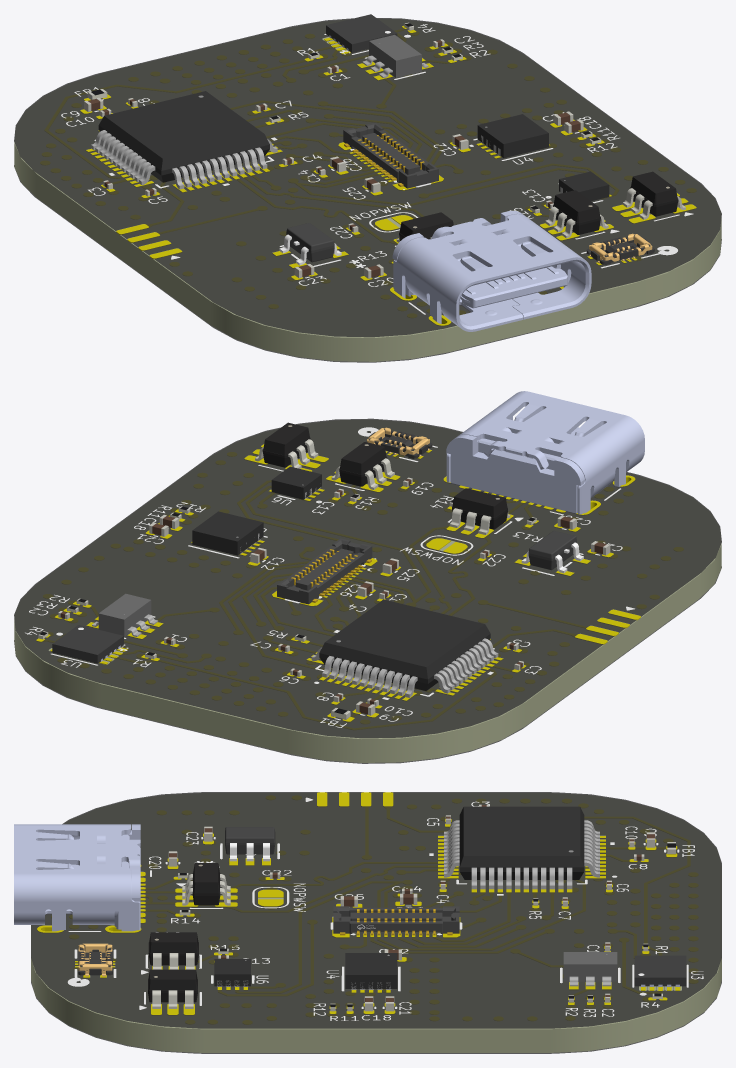
The model's file is STM32 2MB Cold Wallet no switch.glb.
3 views of the same model, one above another, from view 1: azimuth 30°, elevation 25°; view 2: azimuth 150°, elevation 25°; view 3: azimuth 270°, elevation 25° (orthographic).
Visible parts, largest first — view 1: =>[0:1:1:39], =>[0:1:1:41], =>[0:1:1:24], =>[0:1:1:36], =>[0:1:1:7], =>[0:1:1:15] (×3), =>[0:1:1:37], =>[0:1:1:35], =>[0:1:1:33], =>[0:1:1:9], =>[0:1:1:31], D (+3 smaller); view 2: =>[0:1:1:39], =>[0:1:1:41], =>[0:1:1:24], =>[0:1:1:36], =>[0:1:1:7], =>[0:1:1:15] (×3), =>[0:1:1:37], =>[0:1:1:35], =>[0:1:1:33], =>[0:1:1:31], =>[0:1:1:9], D (+3 smaller); view 3: =>[0:1:1:39], =>[0:1:1:41], =>[0:1:1:36], =>[0:1:1:24], =>[0:1:1:7], =>[0:1:1:15] (×3), =>[0:1:1:37], =>[0:1:1:35], =>[0:1:1:33], =>[0:1:1:9], =>[0:1:1:31], D (+3 smaller).
Part boxes in pixels (x1,y1,x2,y2): =>[0:1:1:39]: (14, 18, 721, 337); =>[0:1:1:41]: (14, 19, 721, 361); =>[0:1:1:24]: (392, 210, 591, 331); =>[0:1:1:36]: (40, 26, 696, 325); =>[0:1:1:7]: (91, 91, 277, 189); =>[0:1:1:15] (×3): (396, 171, 685, 242); =>[0:1:1:37]: (61, 24, 693, 314); =>[0:1:1:35]: (343, 122, 438, 188); =>[0:1:1:33]: (477, 114, 548, 158); =>[0:1:1:9]: (362, 34, 428, 77); =>[0:1:1:31]: (326, 14, 397, 52); D: (286, 223, 334, 262); =>[0:1:1:39]: (14, 418, 721, 738); =>[0:1:1:41]: (14, 420, 721, 762); =>[0:1:1:24]: (446, 391, 644, 514); =>[0:1:1:36]: (36, 444, 683, 729); =>[0:1:1:7]: (311, 599, 498, 697); =>[0:1:1:15] (×3): (255, 422, 510, 534); =>[0:1:1:37]: (25, 427, 634, 727); =>[0:1:1:35]: (277, 538, 372, 604); =>[0:1:1:33]: (192, 511, 263, 555); =>[0:1:1:31]: (52, 625, 123, 663); =>[0:1:1:9]: (92, 593, 158, 636); D: (528, 530, 576, 570); =>[0:1:1:39]: (31, 792, 721, 1028); =>[0:1:1:41]: (31, 793, 721, 1052); =>[0:1:1:36]: (37, 792, 697, 1024); =>[0:1:1:24]: (14, 824, 140, 931); =>[0:1:1:7]: (444, 806, 599, 889); =>[0:1:1:15] (×3): (148, 863, 230, 1008); =>[0:1:1:37]: (67, 797, 703, 1020); =>[0:1:1:35]: (333, 906, 459, 935); =>[0:1:1:33]: (345, 953, 397, 989); =>[0:1:1:9]: (563, 952, 617, 986); =>[0:1:1:31]: (634, 955, 686, 986); D: (225, 827, 275, 854).
Size of the model in its own units: 0.0323 by 0.00467 by 0.0409.
